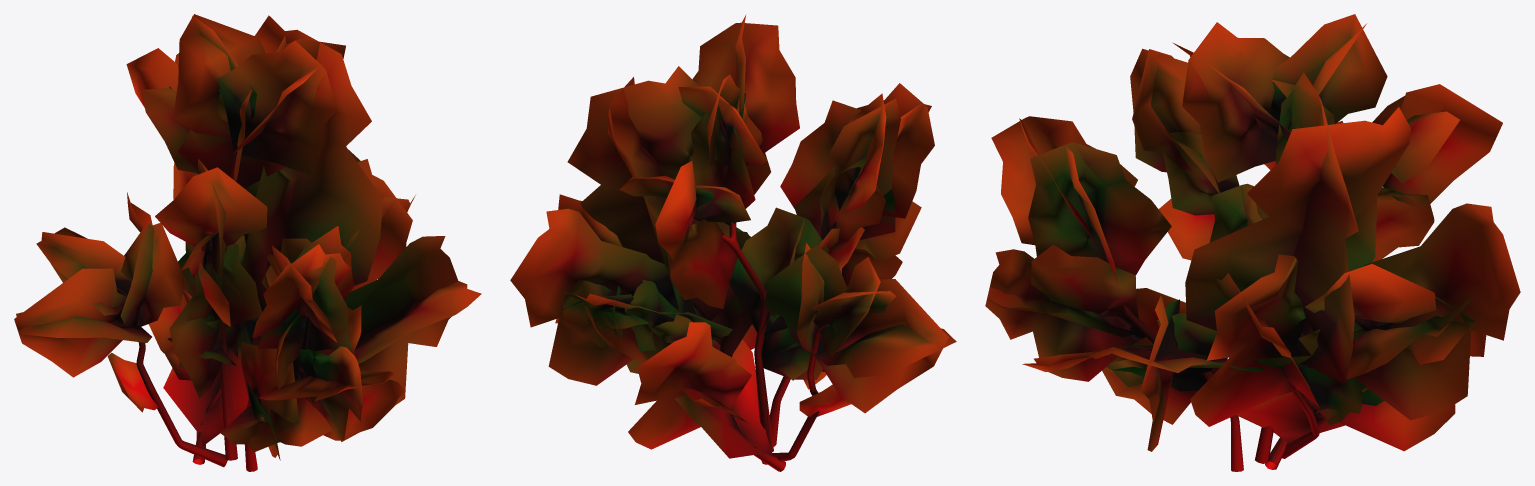
File: BeechBushC_Fall.fbx
The picture shows the model from 3 angles, left to right: view 1: azimuth 30°, elevation 25°; view 2: azimuth 150°, elevation 25°; view 3: azimuth 270°, elevation 25°; orthographic projection. The views are drawn at different scales.
Parts seen in each view (by area): view 1: BBCF_Leaves_LOD0, BBCF_Branch_LOD0; view 2: BBCF_Leaves_LOD0, BBCF_Branch_LOD0; view 3: BBCF_Leaves_LOD0, BBCF_Branch_LOD0.
Boxes of the visible parts, x1,y1,x2,y2 form: BBCF_Leaves_LOD0: (14, 14, 481, 460); BBCF_Branch_LOD0: (116, 152, 310, 471); BBCF_Leaves_LOD0: (510, 14, 956, 458); BBCF_Branch_LOD0: (697, 120, 836, 471); BBCF_Leaves_LOD0: (985, 14, 1520, 451); BBCF_Branch_LOD0: (1098, 242, 1361, 471).
Size of what is drawn, in the model's own units: 2.06 by 2.17 by 2.23.
